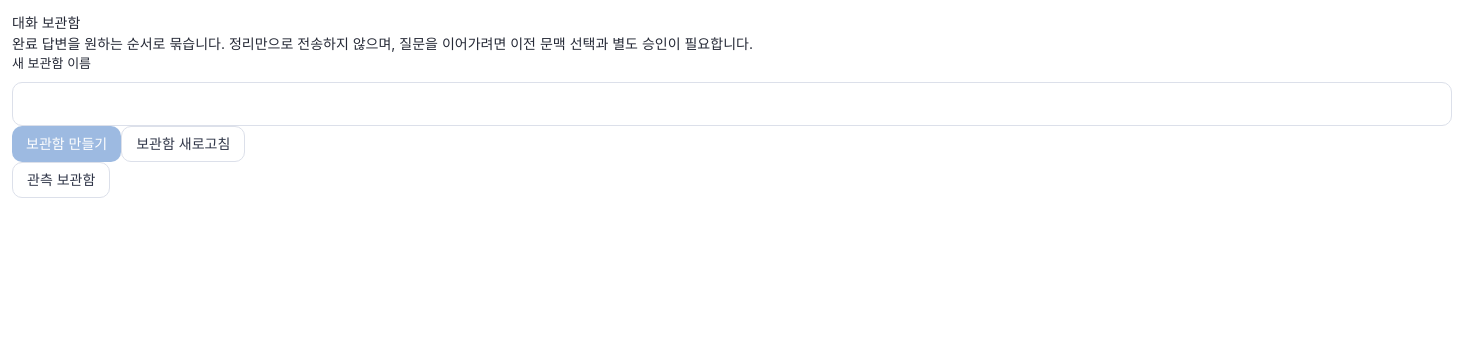
it: 처음에는 목록만 읽고 명시적 선택 후 보관함을 연다
Click the button "관측 보관함" at (61, 180), box [12,162,110,198]
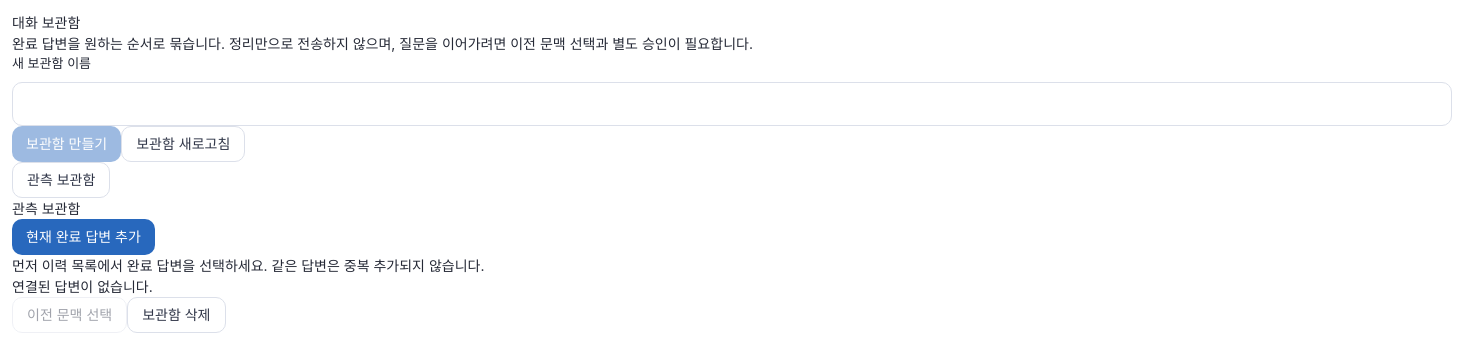
Result: the element named "선택한 보관함" shows "연결된 답변이 없습니다." at [12,278,153,294]
